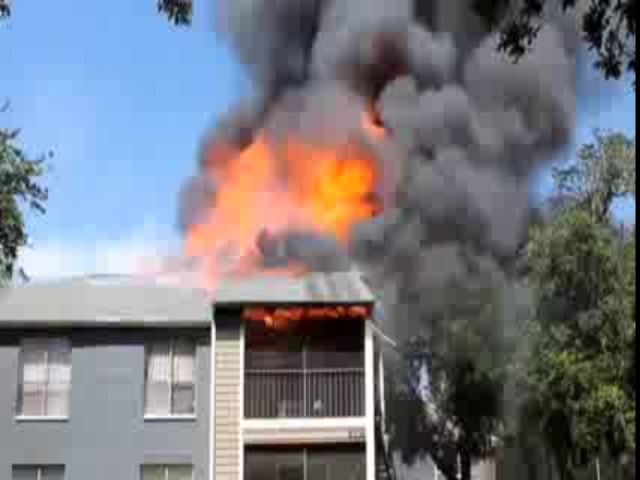fire: (213, 146, 378, 242)
